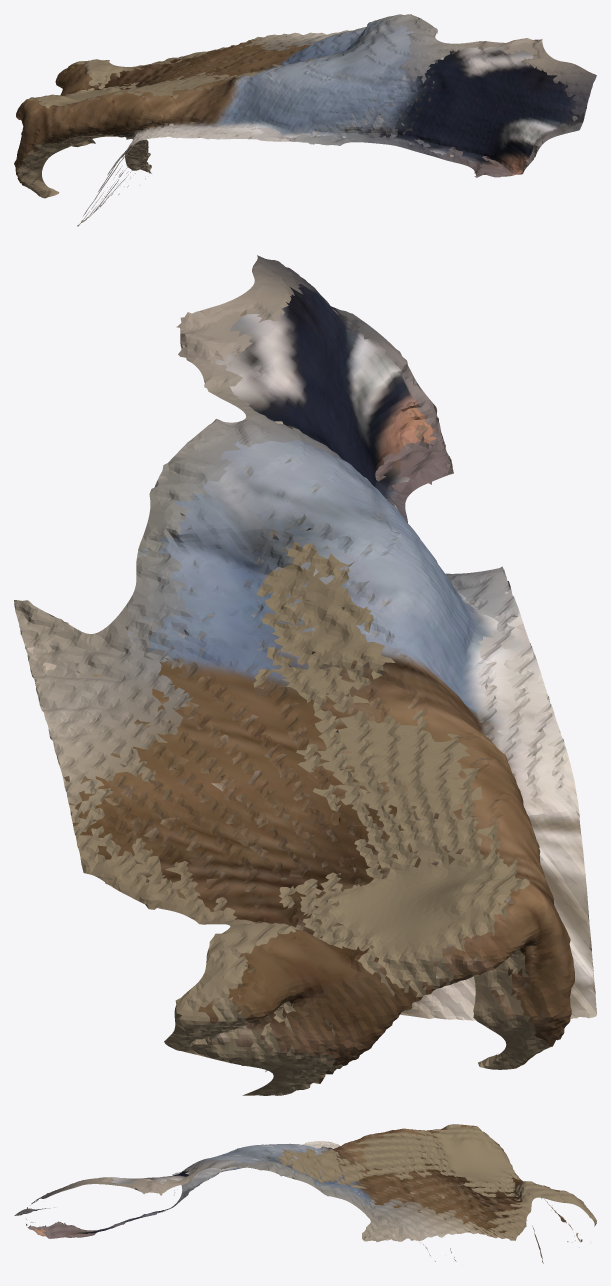
3 renders of one model, top to bottom at view 1: azimuth 30°, elevation 25°; view 2: azimuth 150°, elevation 25°; view 3: azimuth 270°, elevation 25°, orthographic. The views are drawn at different scales.
Size of the model in its own units: 1.01 by 0.5076 by 1.39.
Materials: 1 (1 with a texture image).
